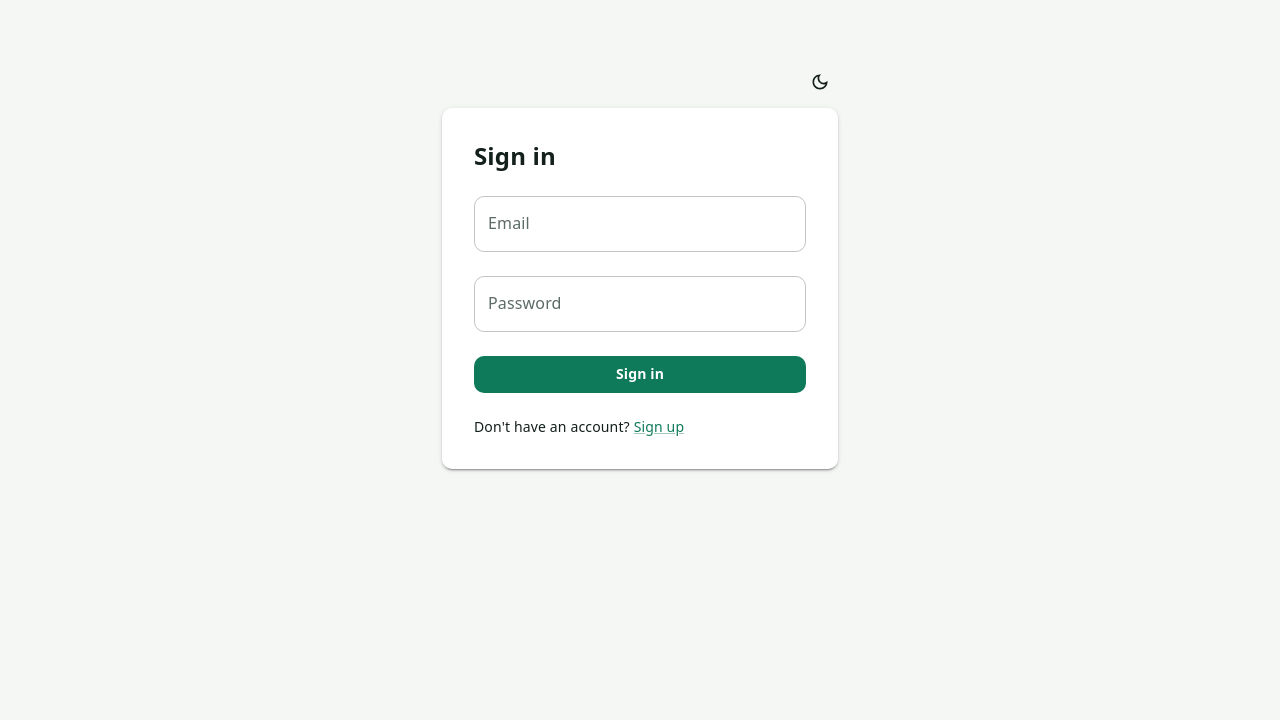
Test case: color mode toggle › defaults to light and persists a switch to dark
Click the button named "switch to dark mode". click: (820, 82)
box: 802,64 -> 838,100
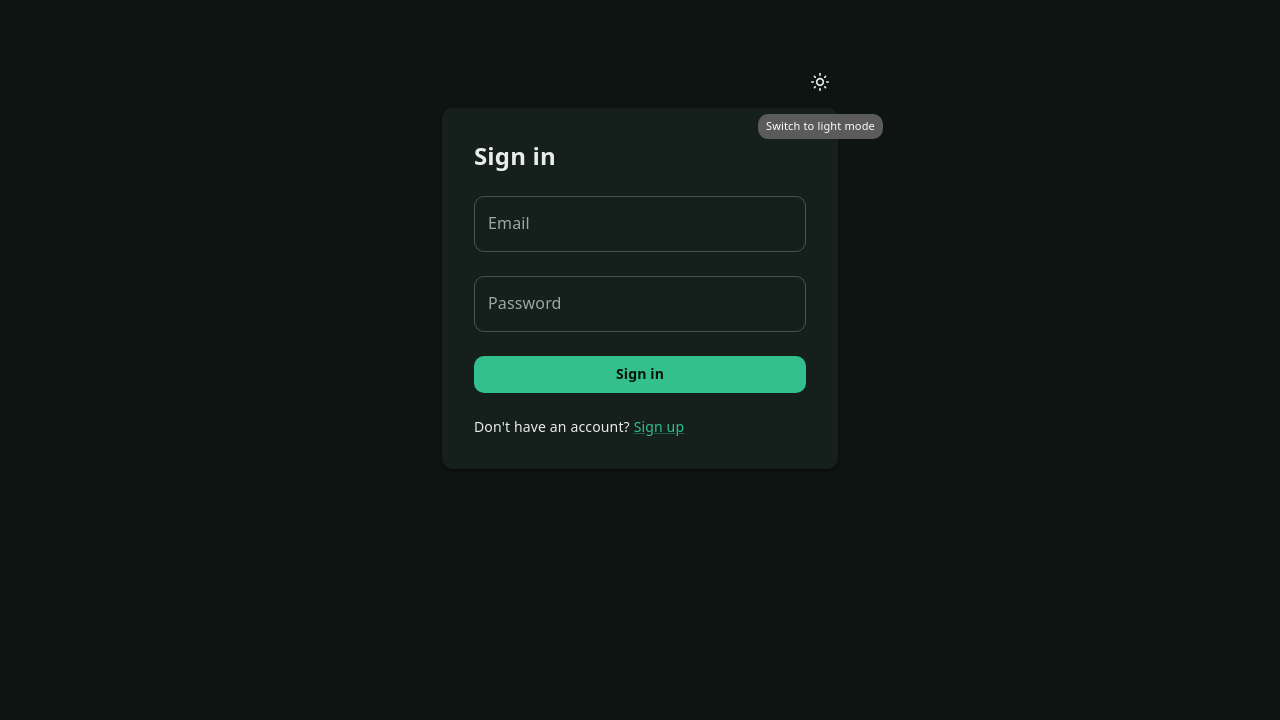
Expected: the button named "switch to light mode" is shown, 802,64 -> 838,100
